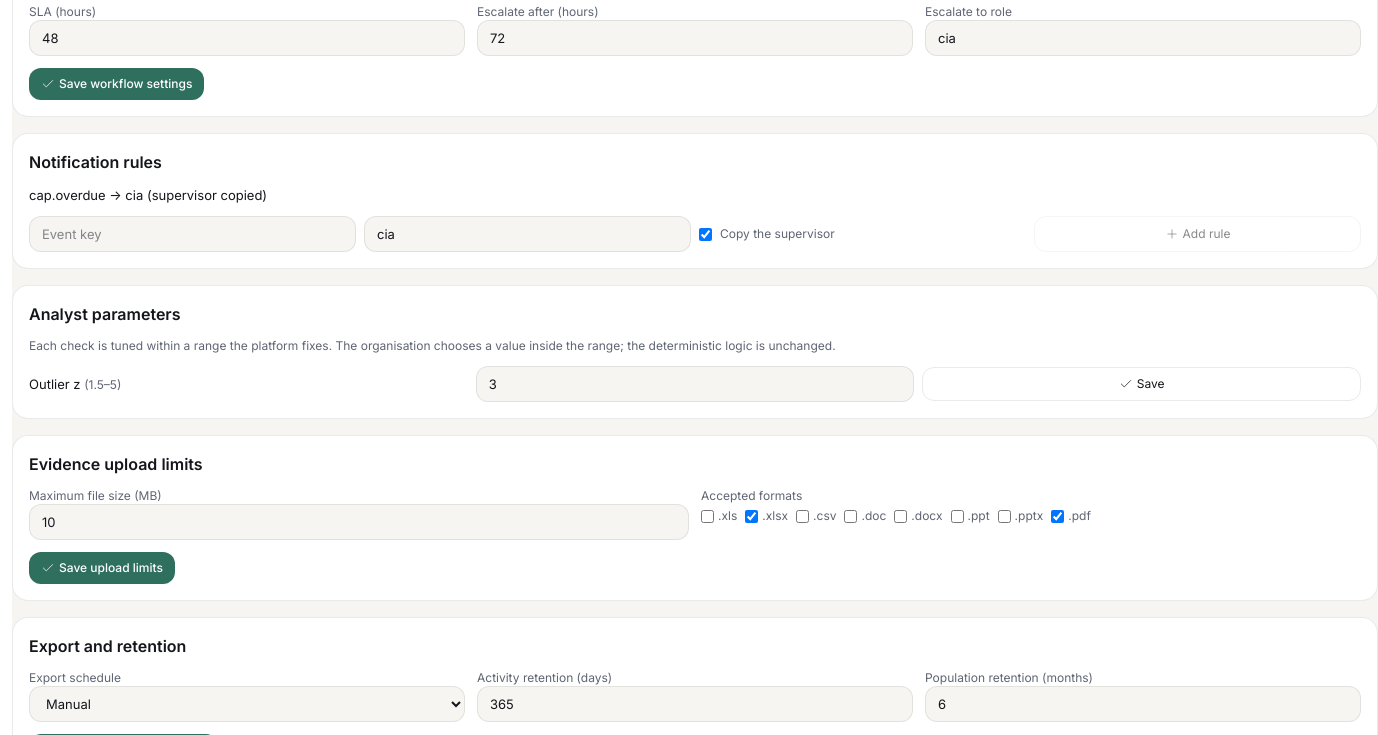
Test: OA-22 governance settings (C3.2-B) › sets a BI parameter and reports a refusal from the platform range
The image size is (1378, 735).
(page scrolled)
Check: the button with test id "oa-governance-bi-save-outlier_z_threshold" is shown, box [922,367,1361,401]
Replace the text in the number field with test id "oa-governance-bi-value-outlier_z_threshold" with "0.5" at x=695, y=384, box [476,366,914,402]
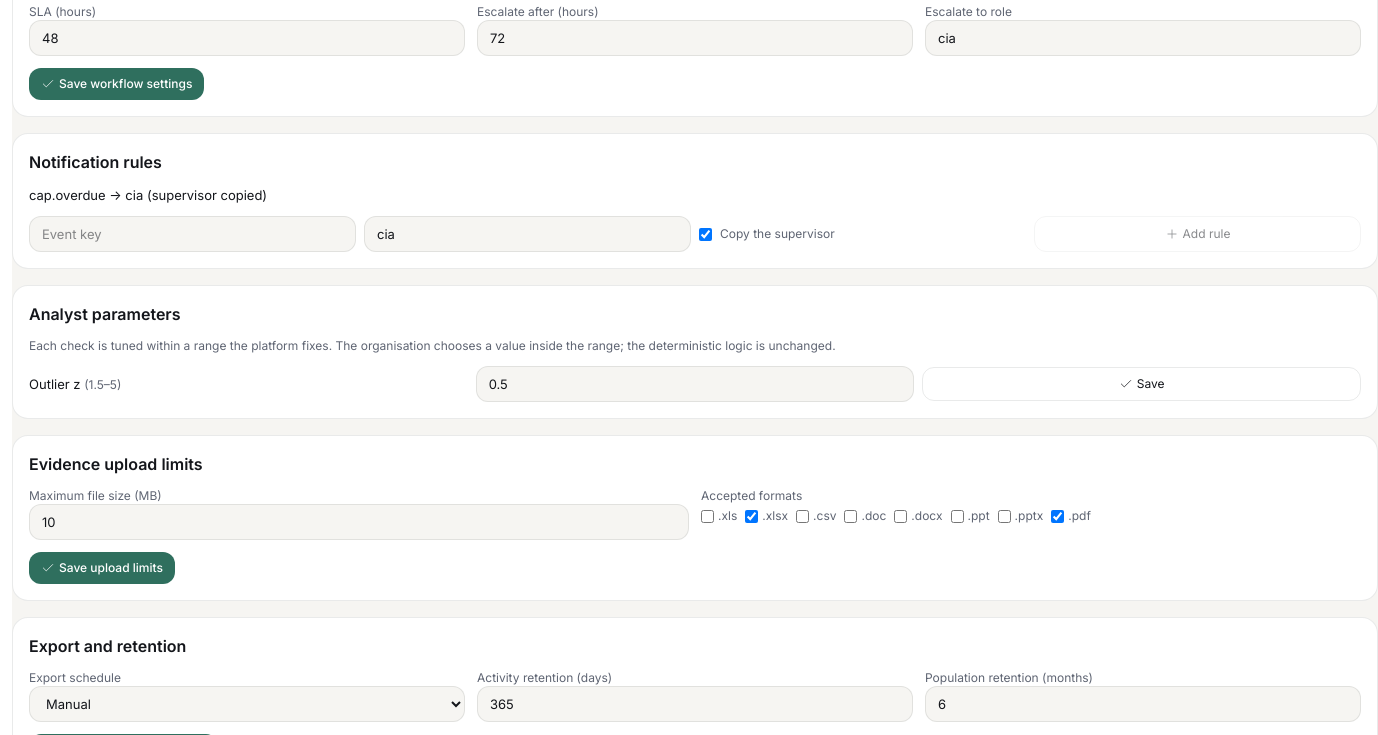
Click the button with test id "oa-governance-bi-save-outlier_z_threshold" at x=1142, y=384, box [922,367,1361,401]
(page scrolled)
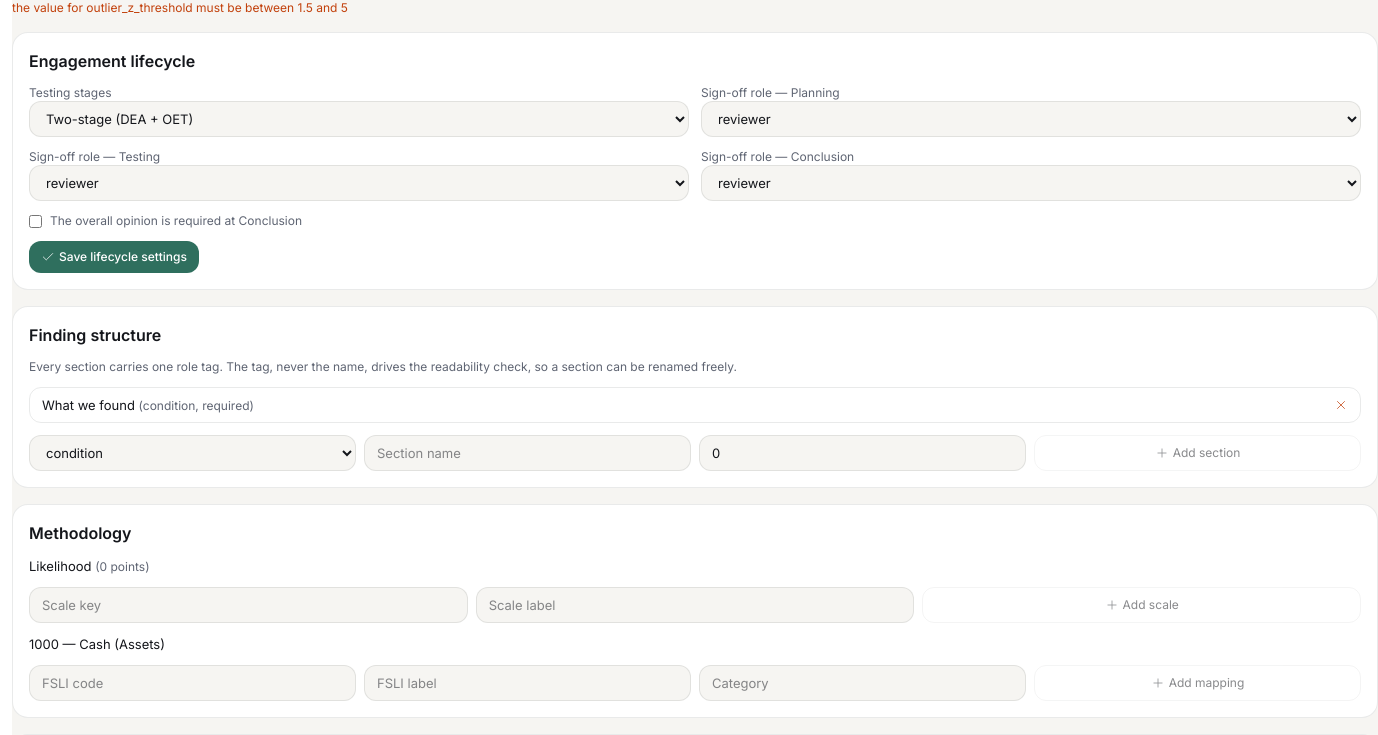
Check: the text with test id "oa-governance-result" shows "must be between", box [12,0,348,15]
